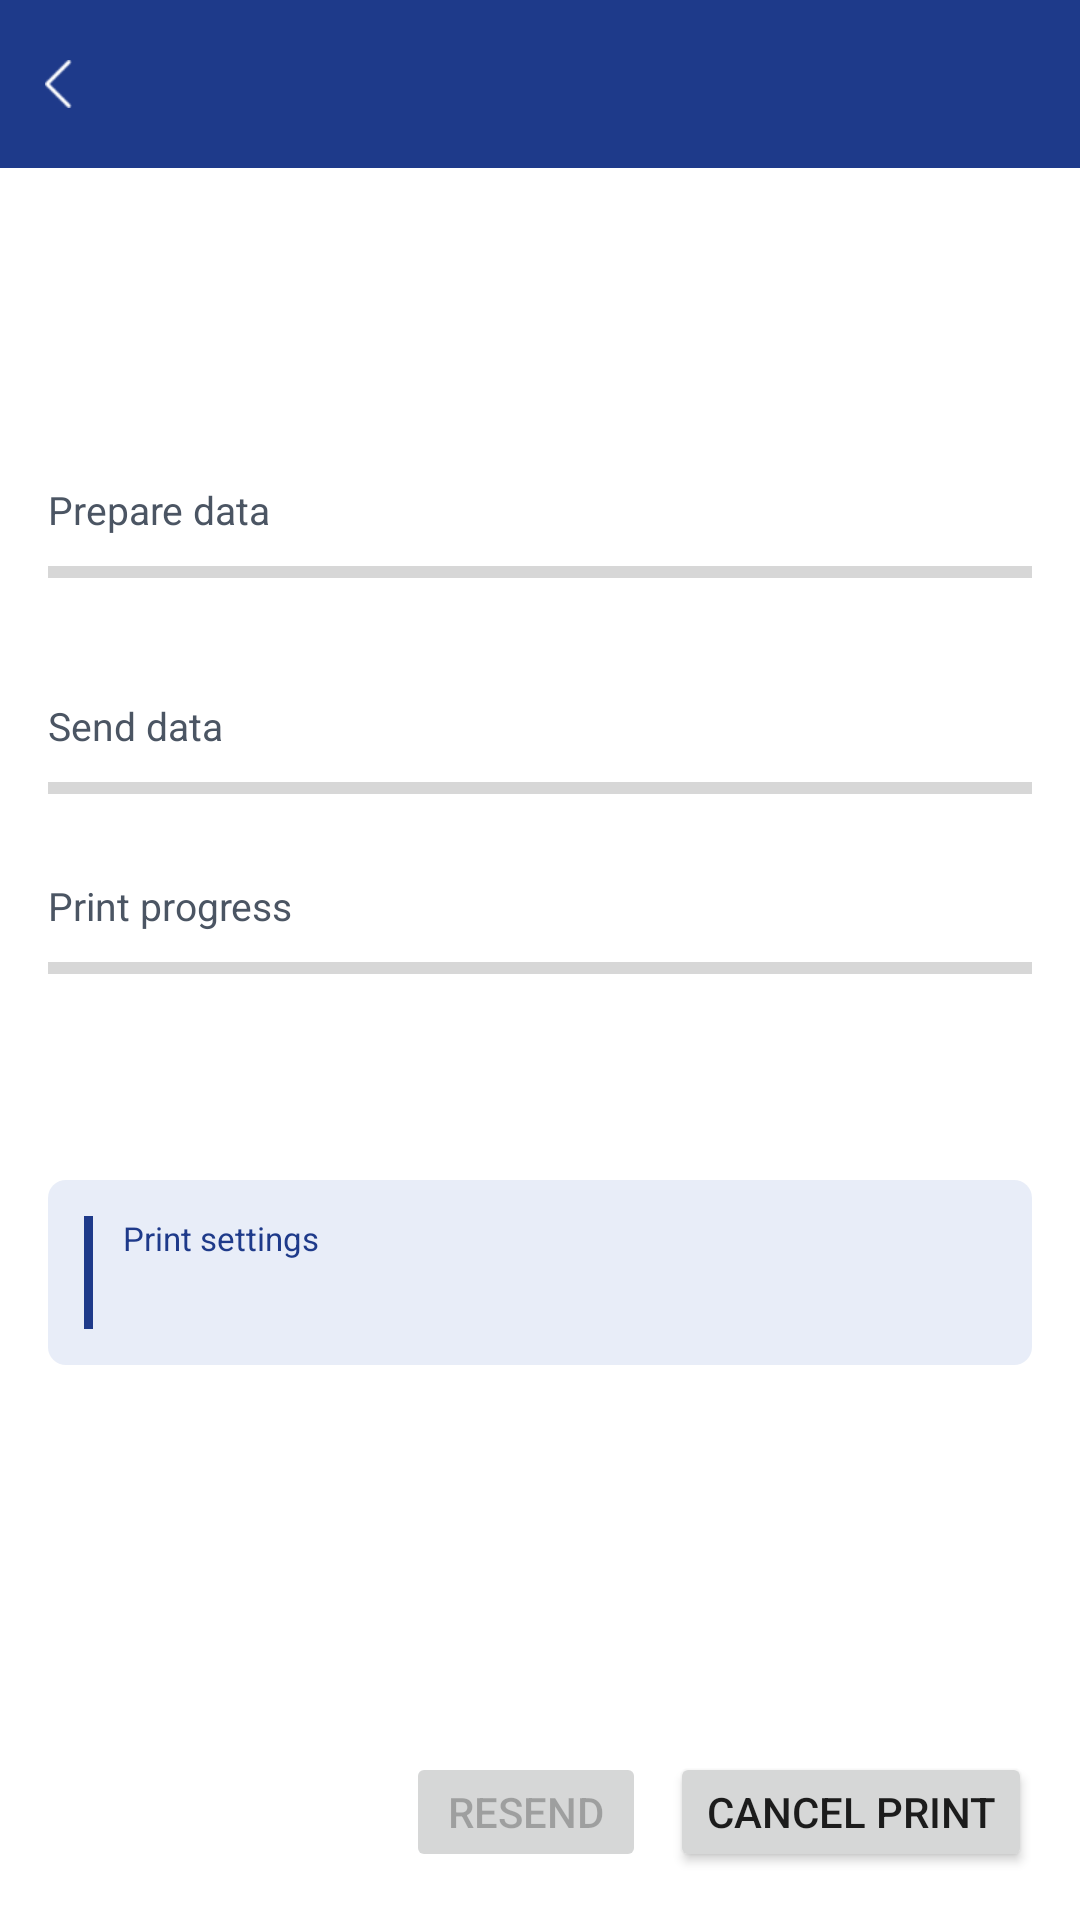

Where icons sit on this 1080px×1920px app screen, as (x1, y1, x2, y2):
back: (45, 60, 72, 108)
